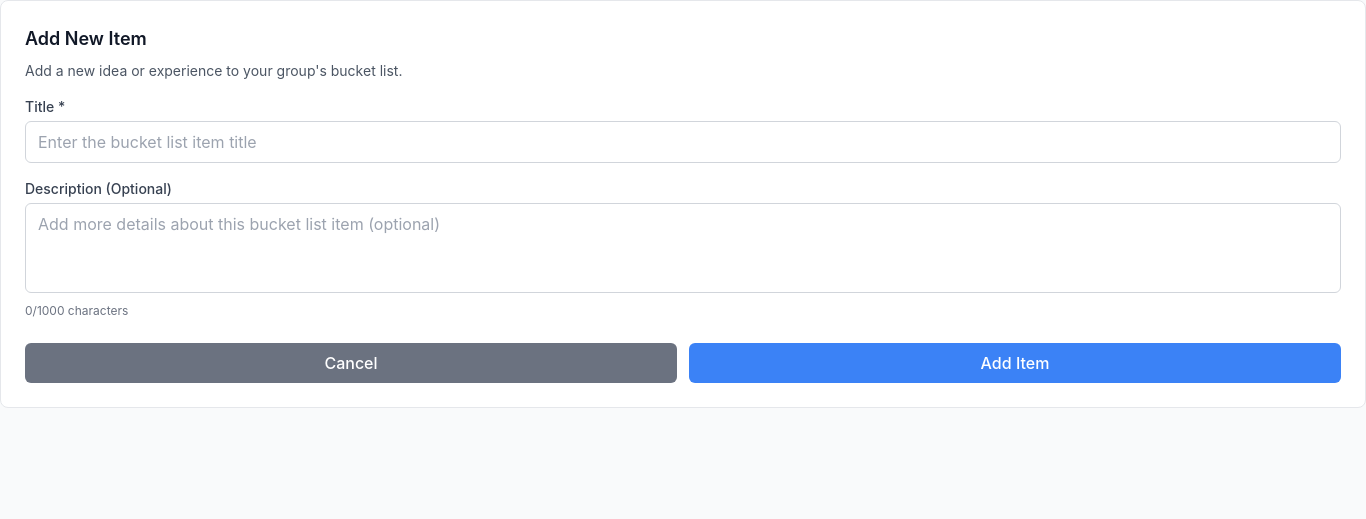
Test: AddItemForm › handles API error gracefully
Type "Test Item" into the field labelled "Title *" at x=683, y=142, box [25,121,1341,163]
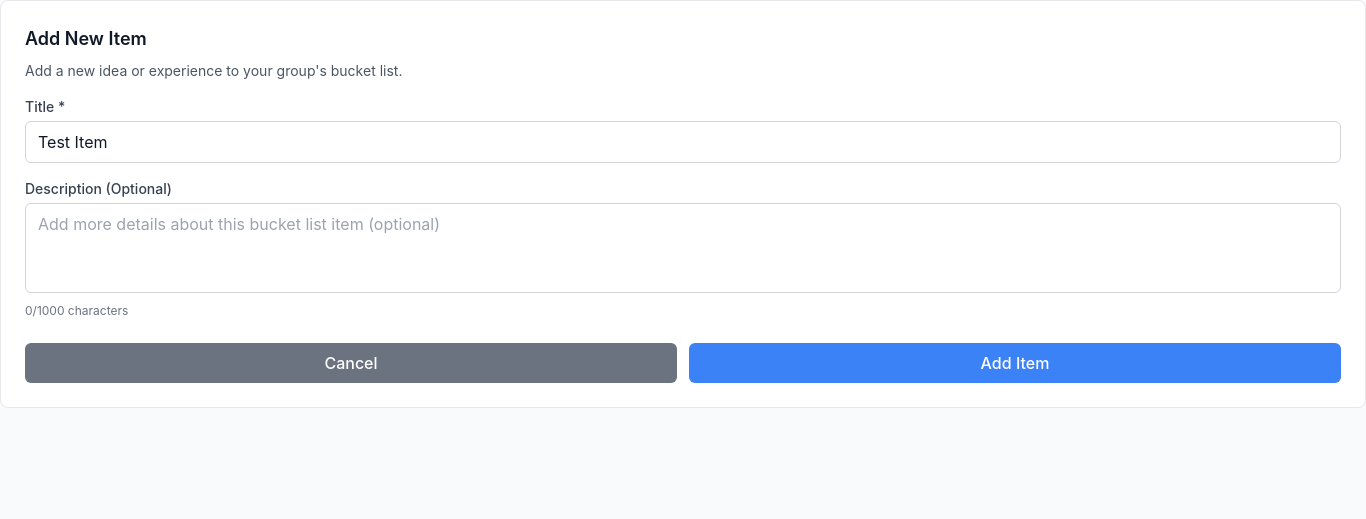
Click the button "Add Item" at x=1015, y=363, box [689,343,1341,383]
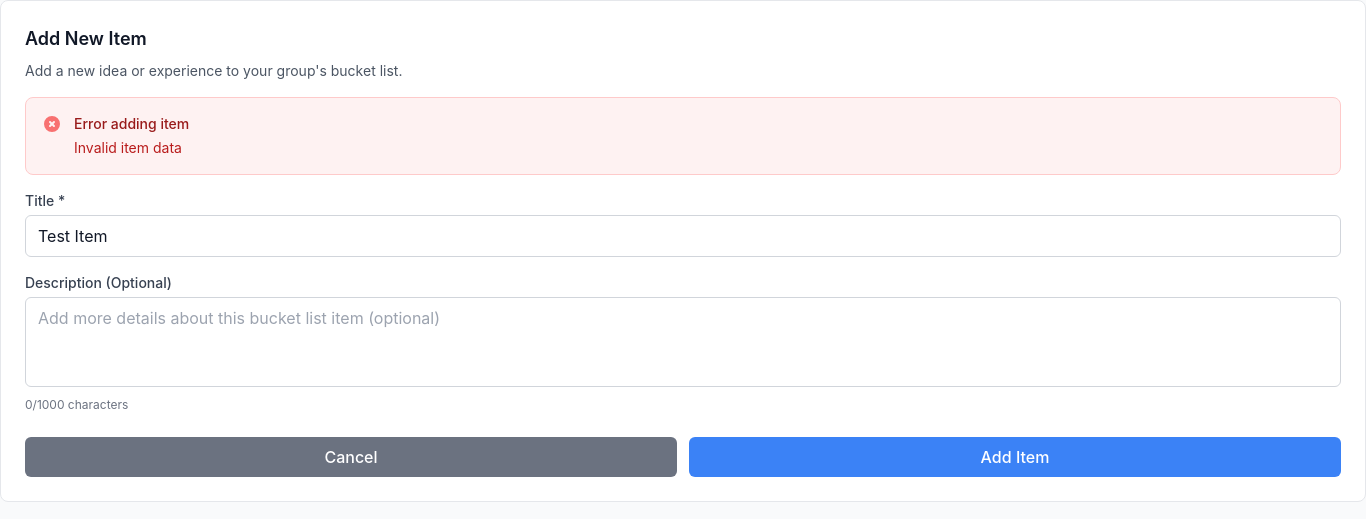
Check: the text "Invalid item data" is shown, box [74,138,189,158]
